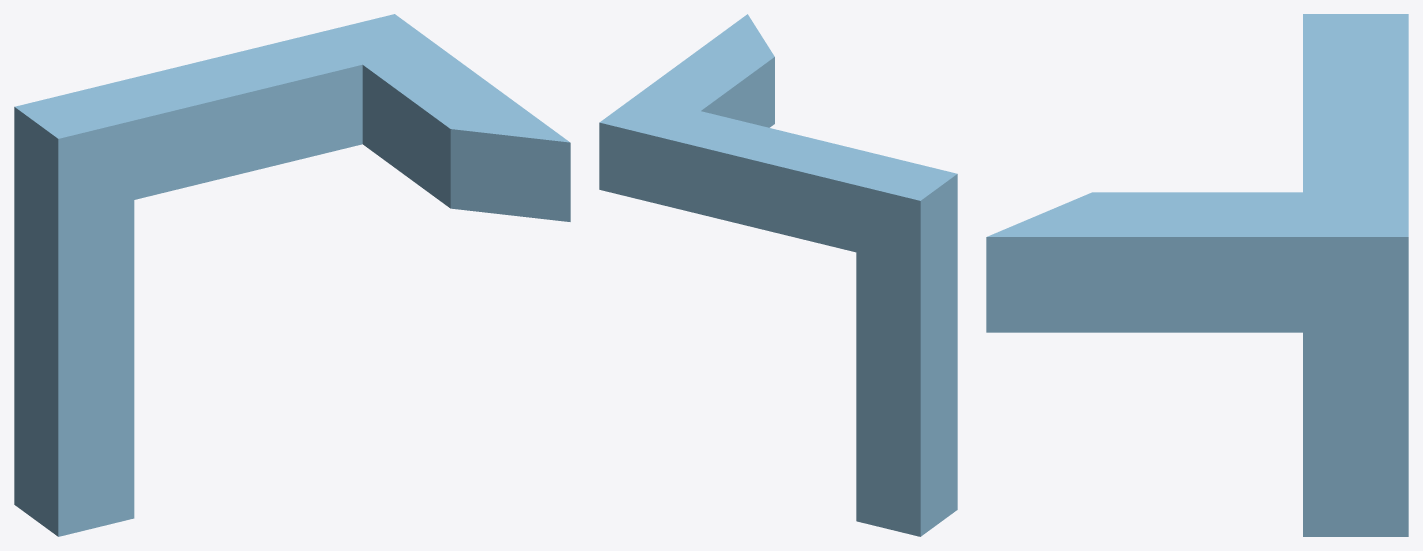
The model's file is Triangle.dae.
3 renders of one model, left to right at view 1: azimuth 30°, elevation 25°; view 2: azimuth 150°, elevation 25°; view 3: azimuth 270°, elevation 25°, orthographic. The views are drawn at different scales.
Visible parts, largest first — view 1: 5bfacb31ce1ee815dc46be5d (×3); view 2: 5bfacb31ce1ee815dc46be5d (×3); view 3: 5bfacb31ce1ee815dc46be5d (×3).
Part boxes in pixels (x1,y1,x2,y2): 5bfacb31ce1ee815dc46be5d (×3): (14, 14, 570, 536); 5bfacb31ce1ee815dc46be5d (×3): (599, 14, 957, 536); 5bfacb31ce1ee815dc46be5d (×3): (986, 14, 1408, 536).
Size of the model in its own units: 0.05 by 0.04 by 0.05.
